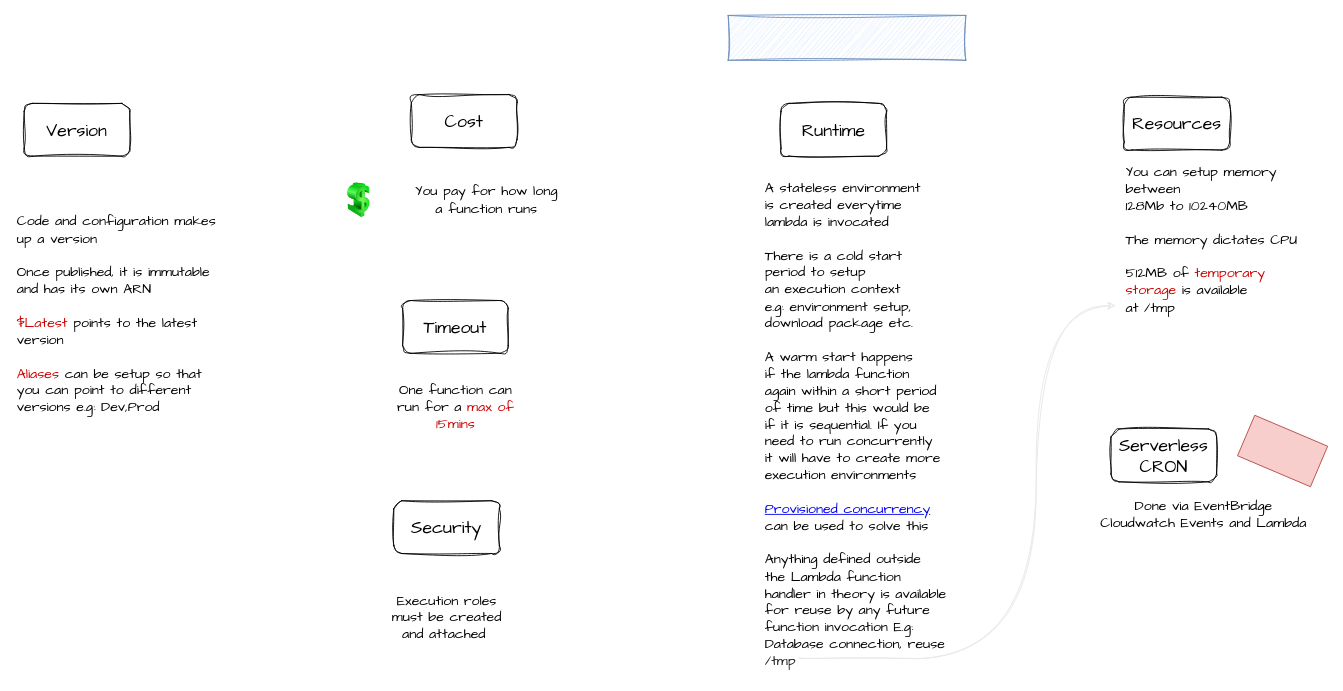
Some shapes in this 1343 by 691 pixel diagram are drawn without their labels. The centre of each missing label's shape, as x and y in pixels:
"BASICS" belongs at point (846, 37).
"Work in progress" belongs at point (1282, 450).
